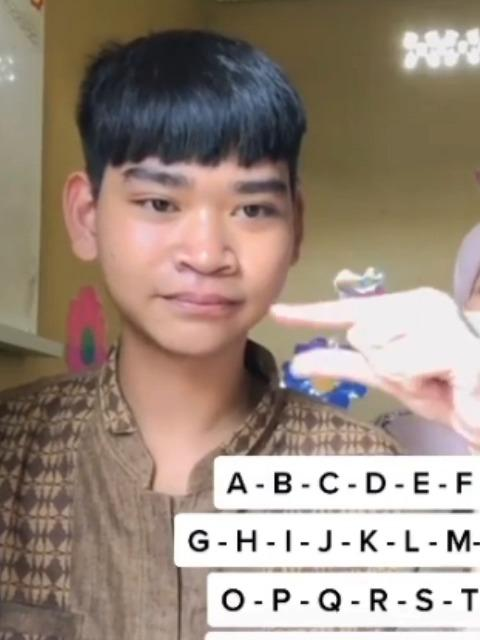G: (270, 286, 480, 448)
